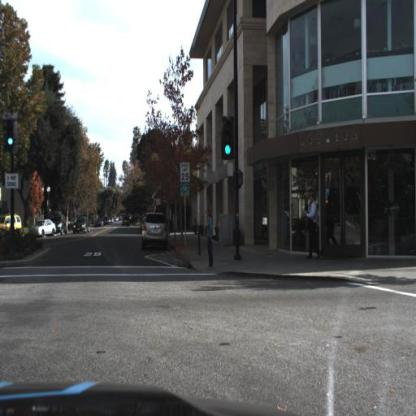car: (141, 213, 169, 253), (1, 211, 26, 238), (35, 219, 58, 241), (72, 214, 90, 237)
pedestrian: (305, 196, 317, 262), (206, 212, 215, 269)
trafficLight: (223, 123, 235, 159), (6, 118, 15, 146)
trafficLight-Green: (225, 123, 235, 157)
